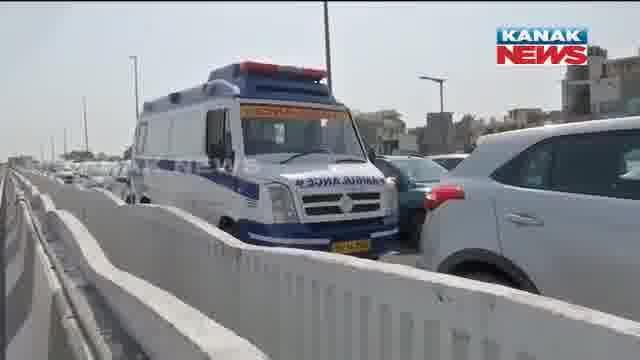AMBULANCE: (134, 57, 411, 251)
